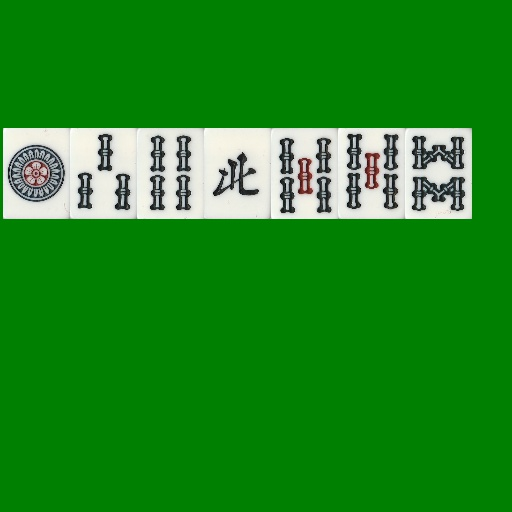1p: (3, 128, 70, 219)
3s: (70, 128, 137, 219)
4s: (137, 128, 204, 219)
5s: (271, 128, 338, 219), (338, 128, 405, 219)
8s: (405, 128, 472, 219)
north: (204, 128, 271, 219)
